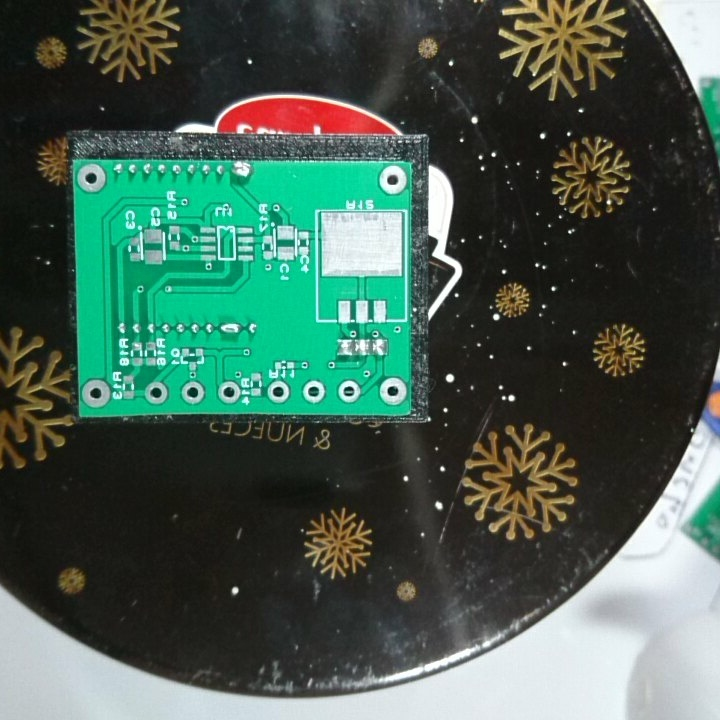F: (75, 160, 108, 195), (80, 378, 111, 411), (377, 165, 409, 196), (377, 375, 408, 407), (178, 378, 208, 405), (336, 378, 362, 406), (302, 378, 328, 406), (266, 378, 292, 406), (143, 380, 170, 406), (217, 378, 242, 405)
P: (229, 159, 255, 182), (217, 318, 242, 341)
